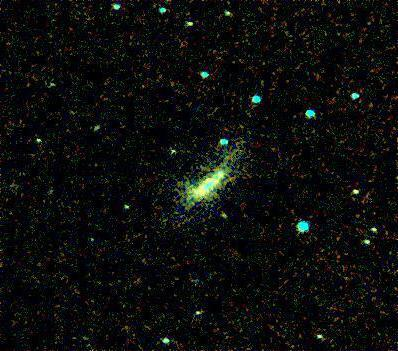star: (158, 259, 188, 289)
